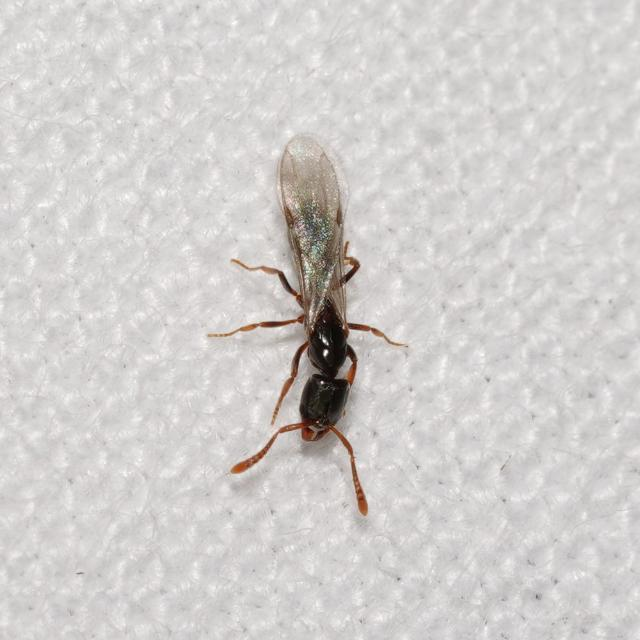Ponera: (222, 124, 412, 508)
